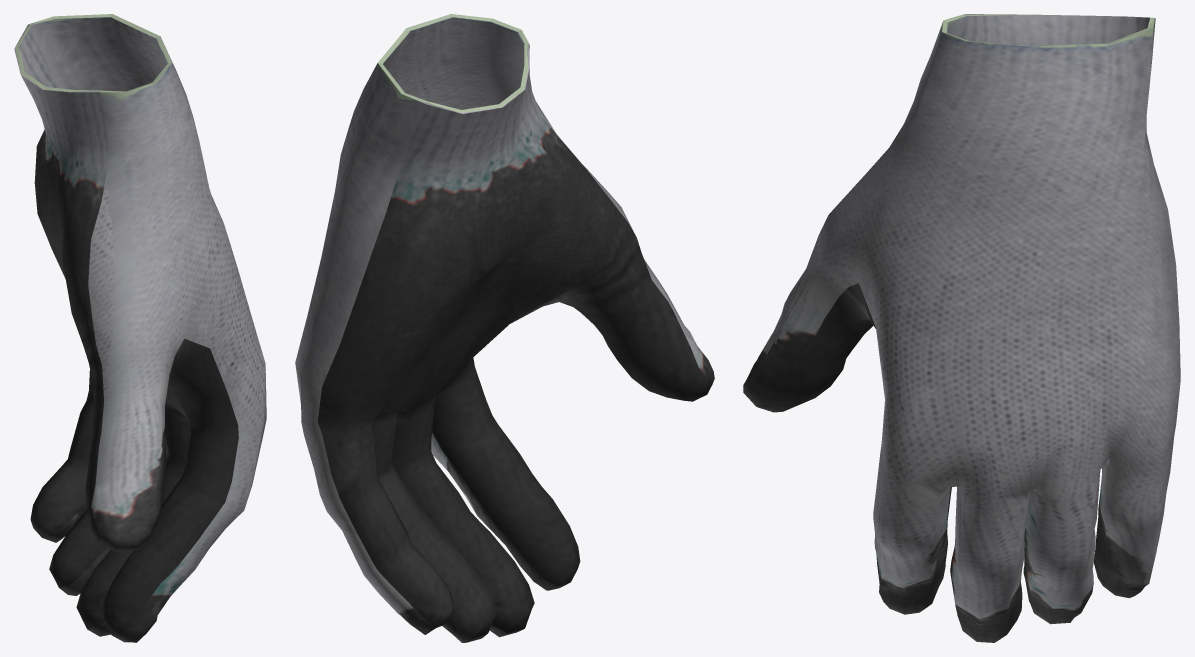
The model's file is Glove_Left.fbx.
3 views of the same model, side by side, from view 1: azimuth 30°, elevation 25°; view 2: azimuth 150°, elevation 25°; view 3: azimuth 270°, elevation 25° (orthographic). The views are drawn at different scales.
Visible parts, largest first — view 1: polySurface2; view 2: polySurface2; view 3: polySurface2.
Part boxes in pixels (left/top/right/bottom): polySurface2: left=14, top=14, right=266, bottom=642; polySurface2: left=295, top=14, right=714, bottom=642; polySurface2: left=743, top=14, right=1180, bottom=642.
Bounding box in the file's own units: 10.06 × 21.73 × 13.56.
